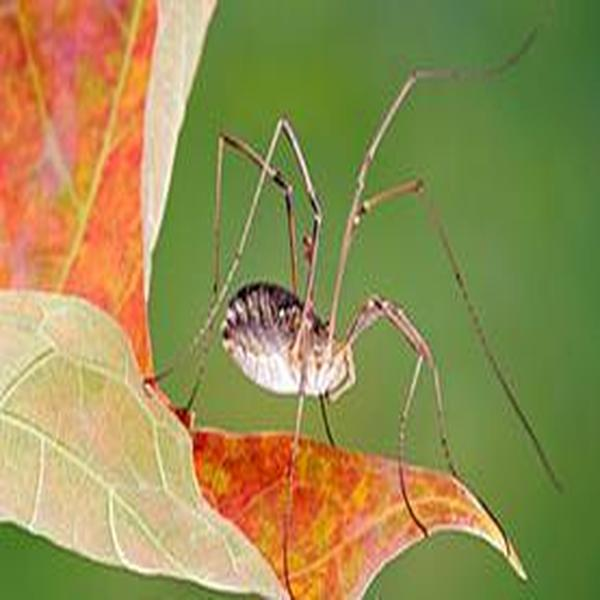Daddy Long Legs Spider: (175, 34, 551, 561)
